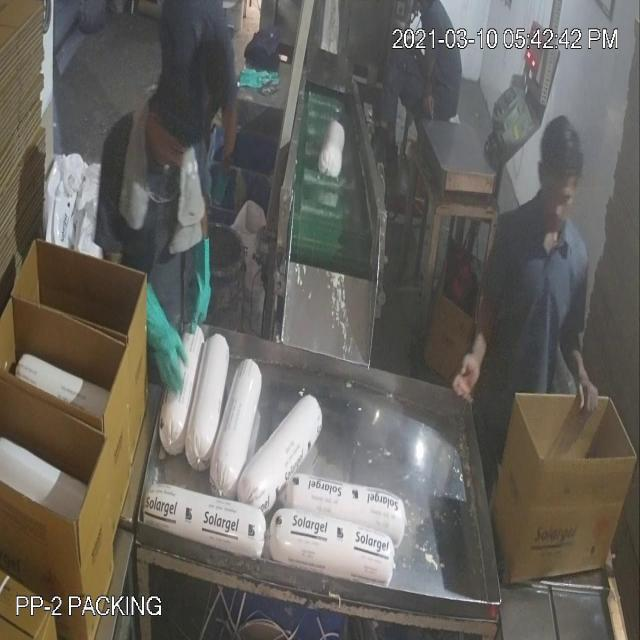No_Gloves: (36, 106, 583, 372)
